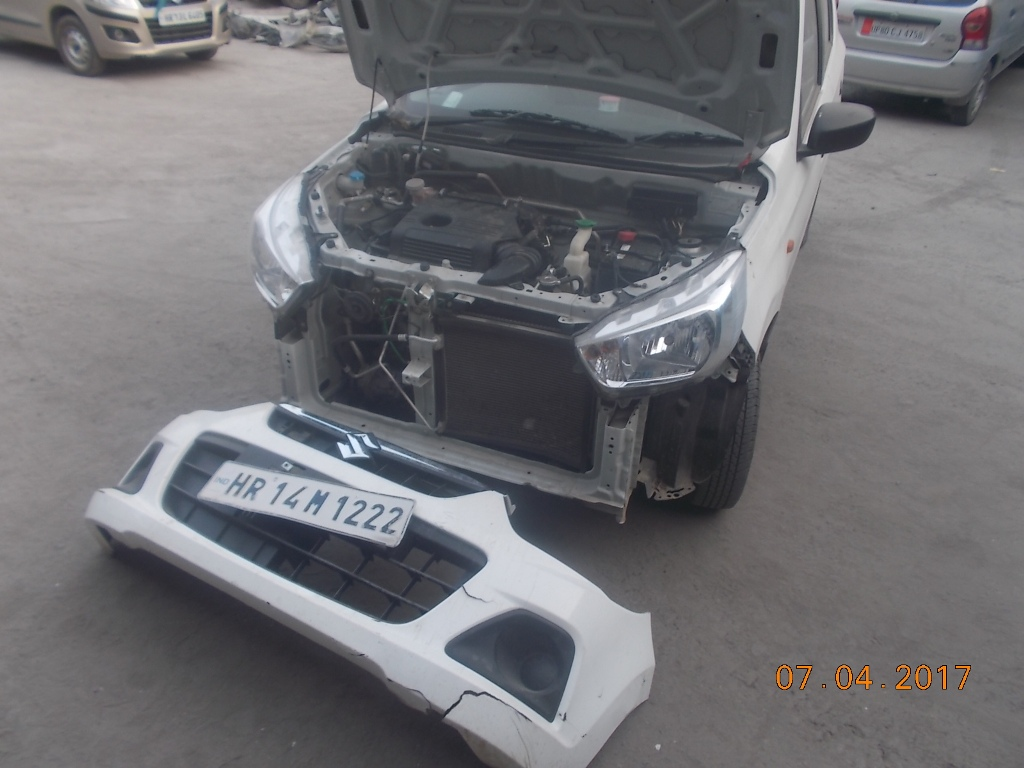Large_tear_or_damage: (245, 156, 768, 517)
